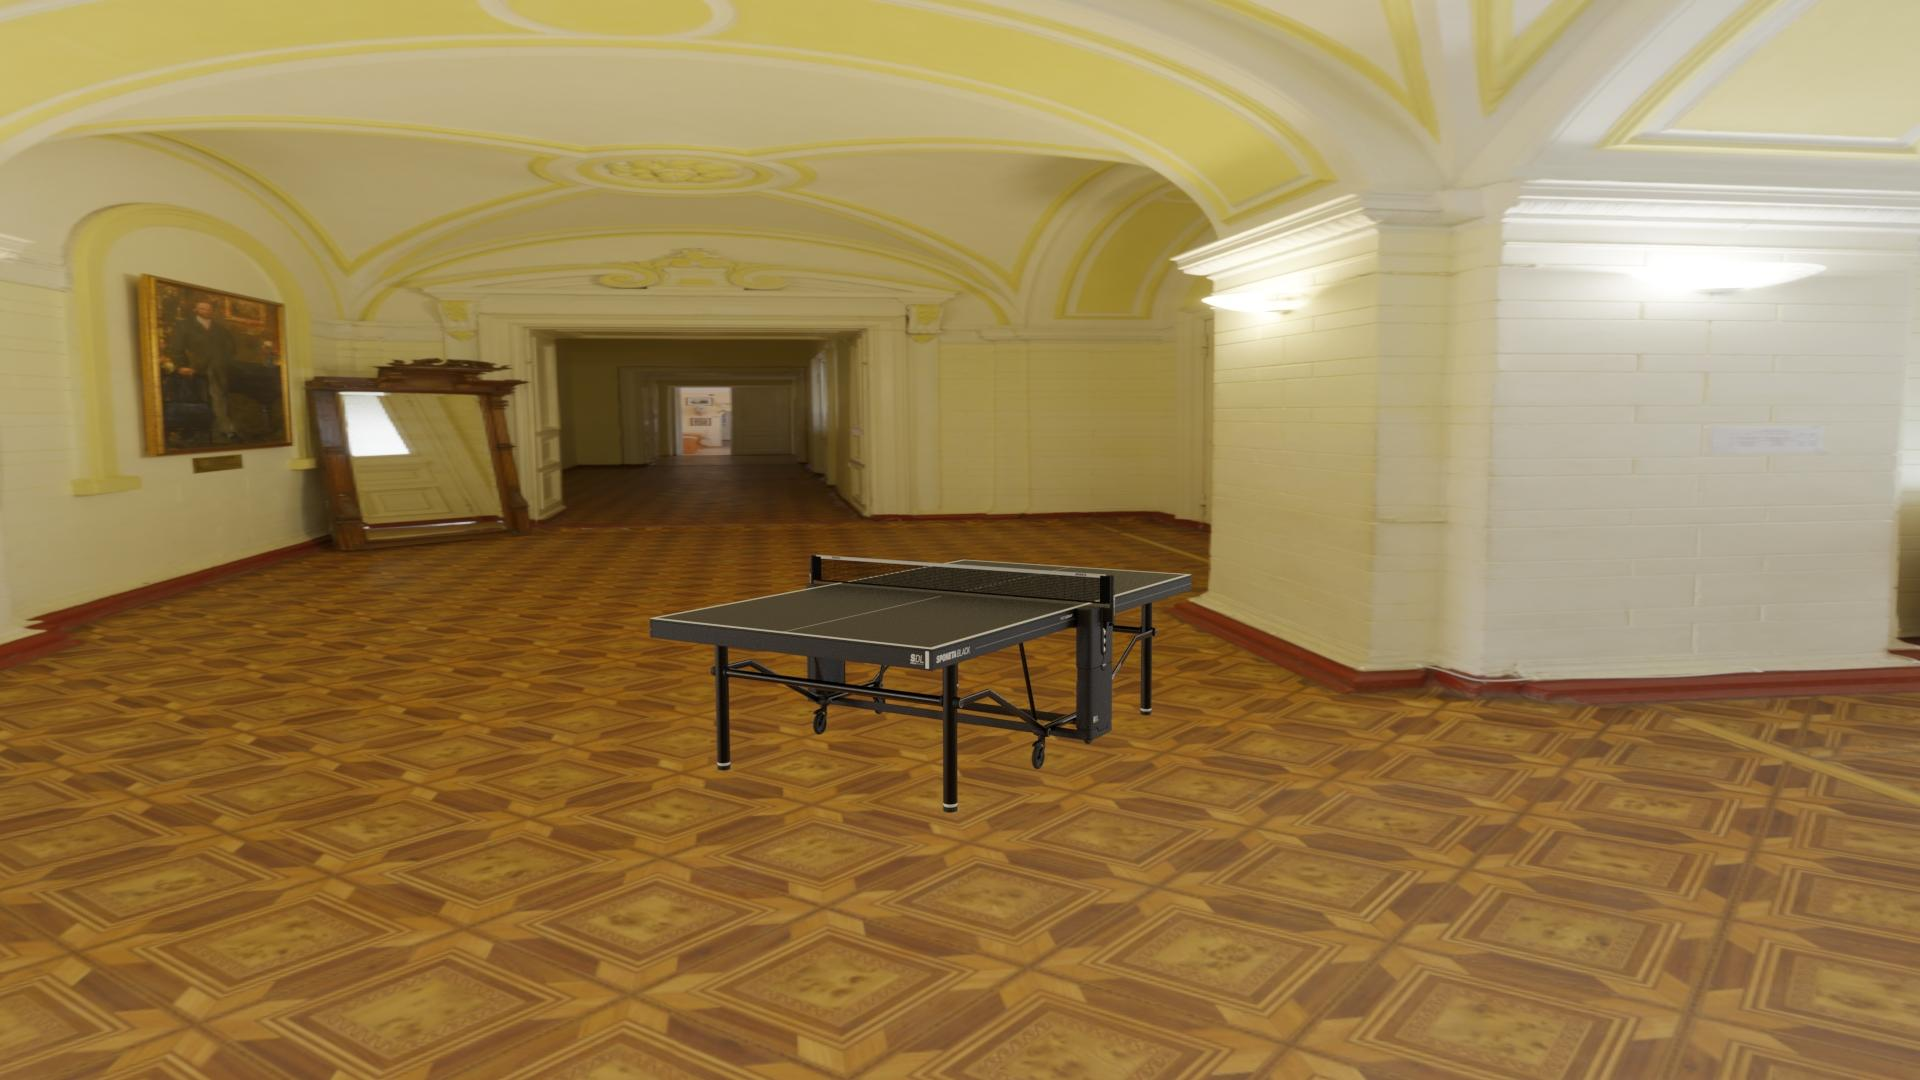table: (656, 560, 1187, 648)
